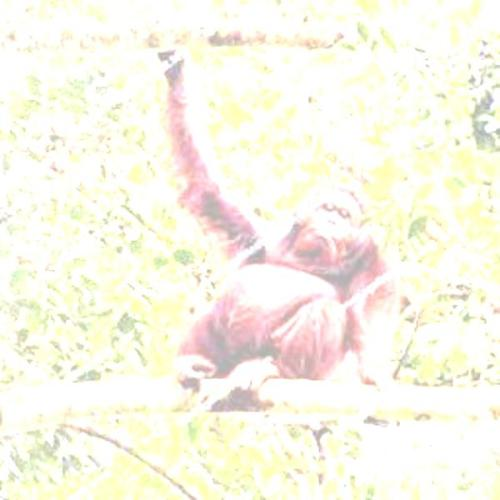orangutan-endangered: (156, 48, 388, 384)
